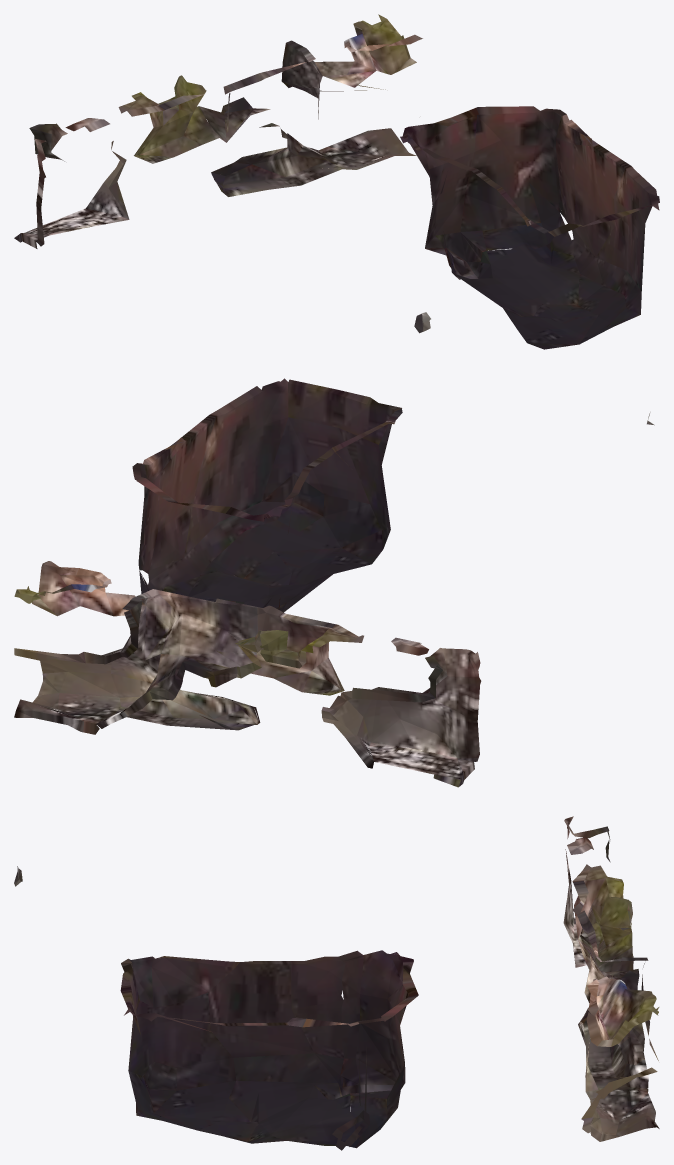
3 views of the same model, one above another, from view 1: azimuth 30°, elevation 25°; view 2: azimuth 150°, elevation 25°; view 3: azimuth 270°, elevation 25° (orthographic). The views are drawn at different scales.
Parts seen in each view (by area): view 1: Mesh_0; view 2: Mesh_0; view 3: Mesh_0.
Boxes of the visible parts, <box> form: Mesh_0: <box>14,14,659,349</box>; Mesh_0: <box>14,378,654,787</box>; Mesh_0: <box>14,816,659,1150</box>.
Bounding box in the file's own units: 31.44 × 10.18 × 41.09.
1 material, 1 textured.
